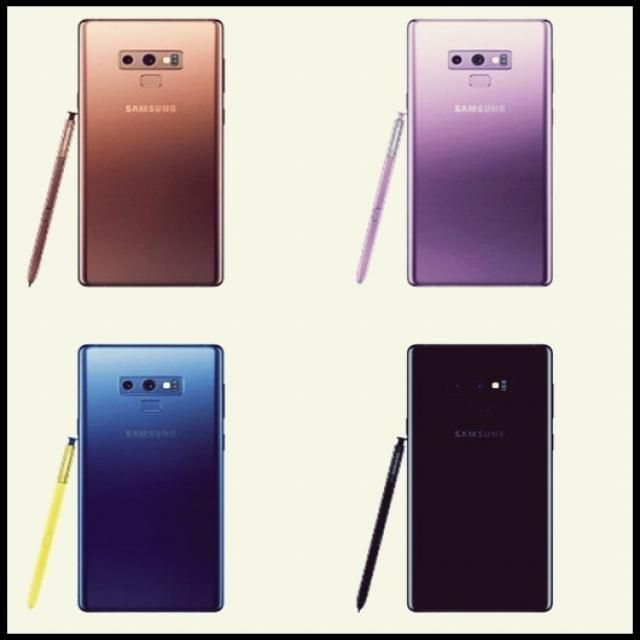phone: (404, 342, 552, 614), (77, 16, 224, 287), (406, 18, 554, 287), (78, 344, 226, 612)
